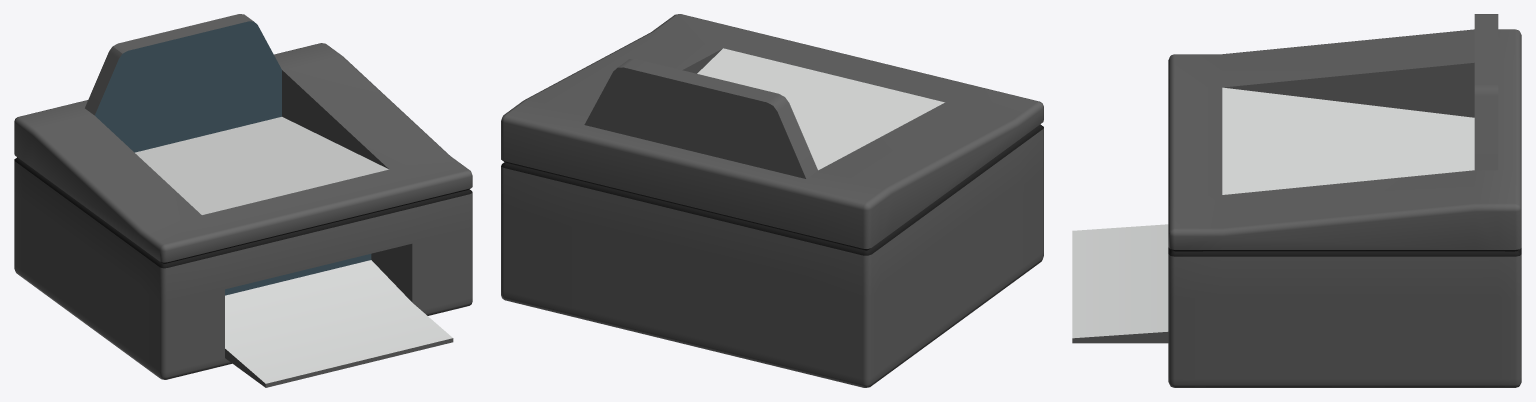
The model's file is Corwd_Printer_01.fbx.
The picture shows the model from 3 angles, left to right: view 1: azimuth 30°, elevation 25°; view 2: azimuth 150°, elevation 25°; view 3: azimuth 270°, elevation 25°; orthographic projection. The views are drawn at different scales.
Visible parts, largest first — view 1: Corwd_Printer_01; view 2: Corwd_Printer_01; view 3: Corwd_Printer_01.
Part boxes in pixels (box(x1,y1,x2,y2)): Corwd_Printer_01: box(14, 14, 472, 387); Corwd_Printer_01: box(501, 14, 1043, 387); Corwd_Printer_01: box(1072, 14, 1521, 387).
Bounding box in the file's own units: 68.33 × 44.63 × 72.43.
